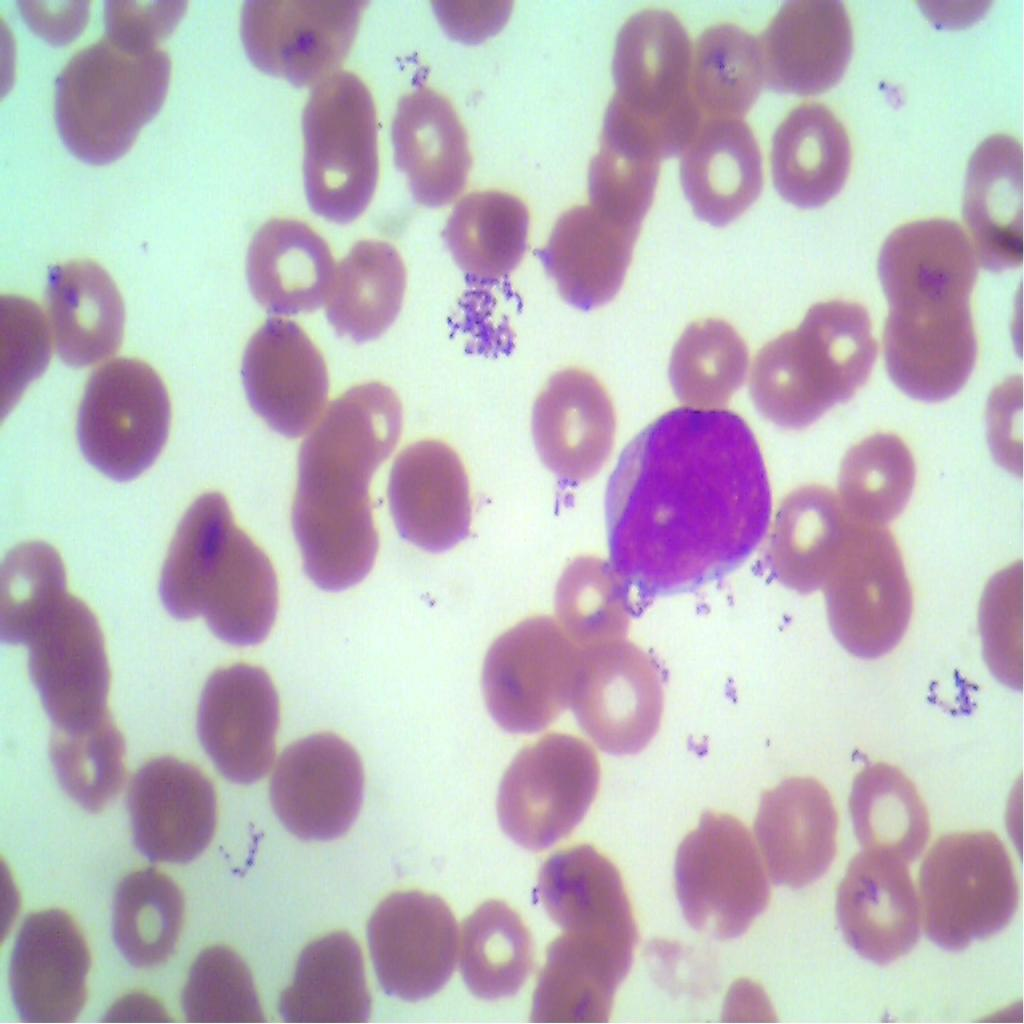Eritrosit: (74, 343, 174, 494), (489, 735, 611, 858), (296, 64, 386, 225), (561, 637, 673, 765), (372, 74, 478, 204), (826, 530, 923, 671), (358, 881, 464, 1010), (666, 805, 768, 939), (883, 295, 994, 418), (268, 724, 374, 851), (190, 648, 281, 794), (518, 354, 624, 477), (22, 588, 110, 735), (478, 591, 568, 734), (918, 832, 1024, 950), (31, 688, 133, 809), (533, 191, 636, 308), (288, 488, 393, 602), (435, 171, 533, 291), (841, 756, 941, 870), (762, 467, 846, 602), (9, 898, 93, 1023), (238, 210, 338, 315), (829, 845, 921, 959), (36, 255, 126, 370), (596, 72, 706, 166), (675, 117, 763, 234), (279, 917, 376, 1023), (242, 318, 328, 437), (311, 232, 404, 342), (786, 288, 882, 394), (528, 835, 622, 941), (135, 752, 218, 871), (386, 442, 468, 562), (826, 428, 930, 522), (49, 50, 139, 158), (198, 527, 280, 645), (766, 95, 848, 211), (758, 0, 858, 95), (879, 201, 968, 307), (532, 935, 638, 1023), (243, 0, 355, 82), (958, 130, 1024, 269), (446, 904, 538, 1002), (151, 498, 226, 616), (111, 864, 191, 972), (295, 412, 379, 514), (761, 782, 838, 891), (546, 550, 633, 646), (88, 35, 178, 127), (668, 315, 746, 420), (742, 325, 818, 426), (686, 20, 764, 118), (324, 379, 406, 468), (569, 892, 643, 988), (4, 531, 66, 644), (609, 7, 686, 92), (590, 144, 658, 224)
Limfoblast: (598, 395, 772, 594)
